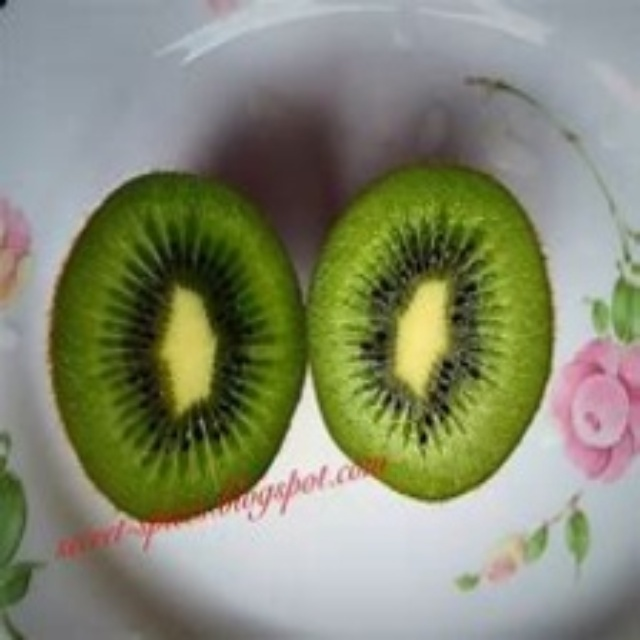kiwi: (48, 167, 317, 544), (295, 169, 552, 508)
